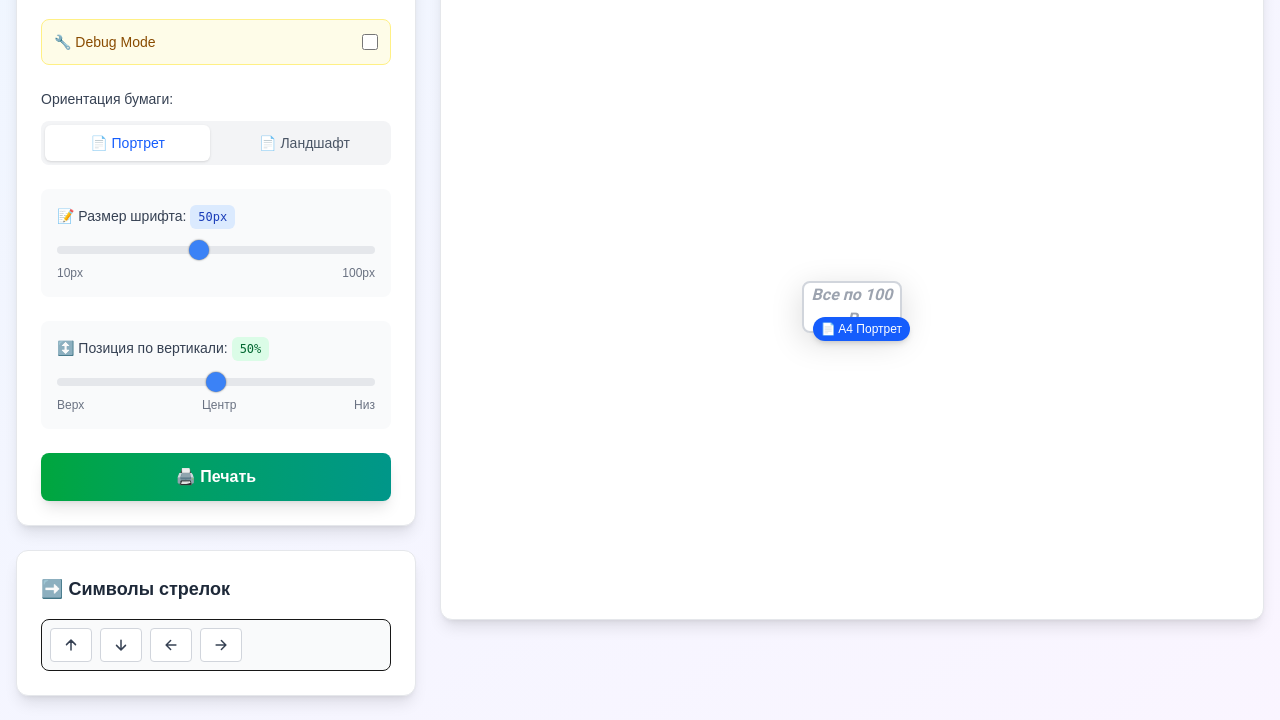
Scenario: ArrowToolbar Integration › allows inserting arrows into the editor through the toolbar
(page scrolled)
Expected: the field is empty, [804,283,900,331]
Step 1. Click the button named "insert up arrow" → (71, 645), box [50,628,92,662]
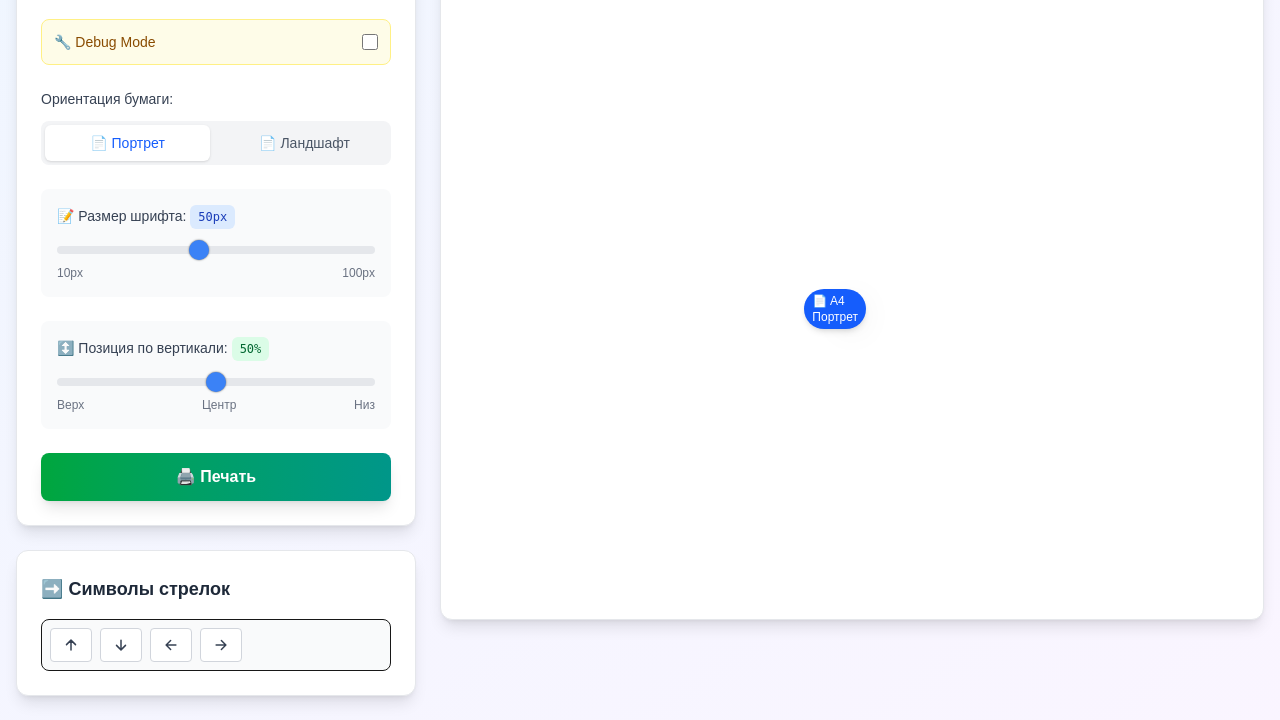
Expected: the field reads "↑", [848,295,856,319]
Step 2. Click the button named "insert right arrow" → (221, 645), box [200,628,242,662]
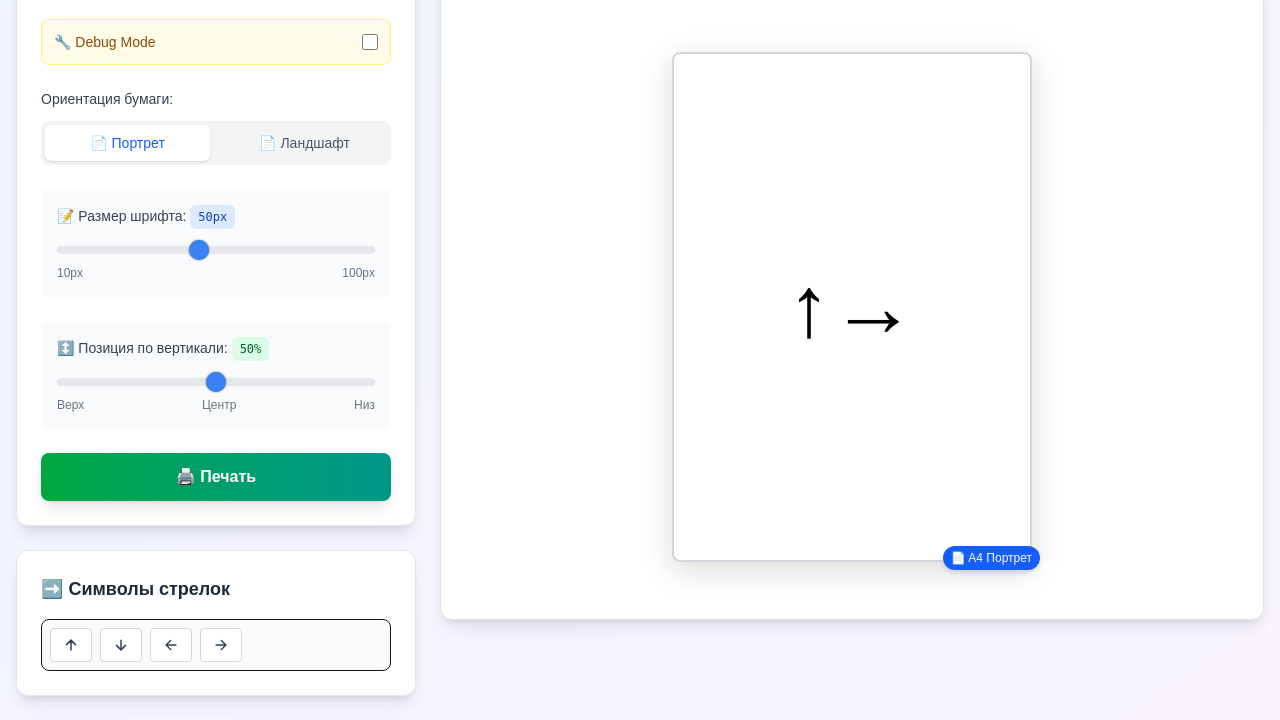
Expected: the field reads "↑→", [788,256,916,357]
